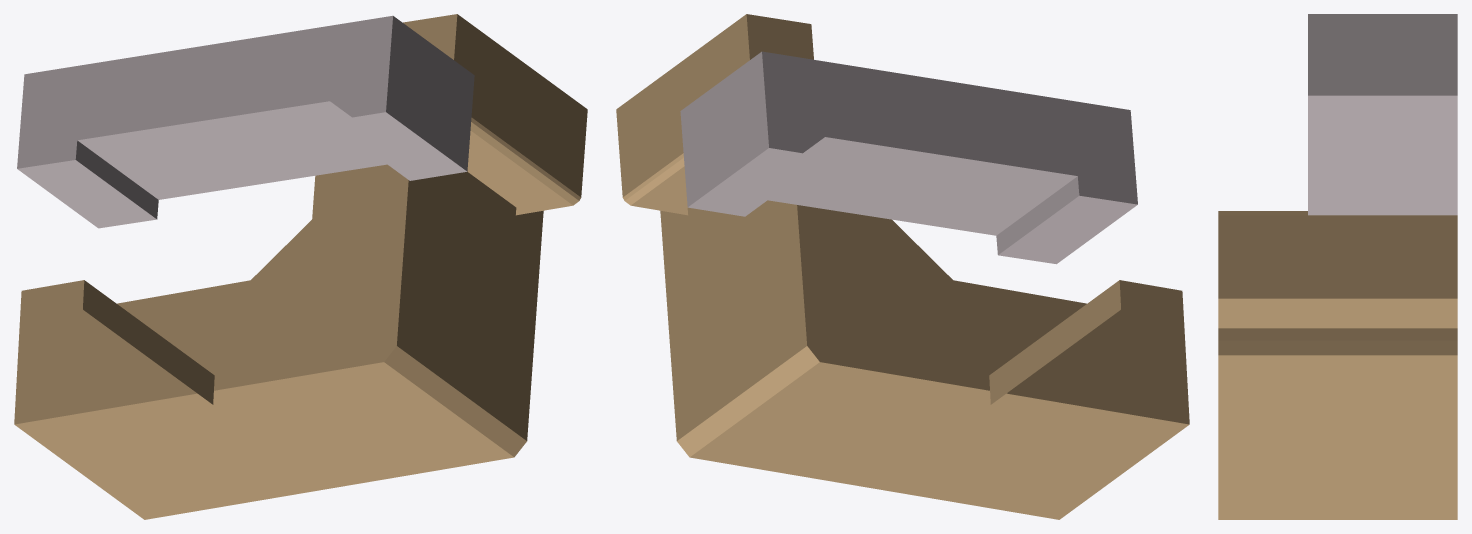
3 renders of one model, left to right at view 1: azimuth 30°, elevation 25°; view 2: azimuth 150°, elevation 25°; view 3: azimuth 270°, elevation 25°, orthographic. The views are drawn at different scales.
Visible parts, largest first — view 1: 0_3_2_0_2_0_1_1_2; view 2: 0_3_2_0_2_0_1_1_2; view 3: 0_3_2_0_2_0_1_1_2.
Boxes of the visible parts, x1,y1,x2,y2 form: 0_3_2_0_2_0_1_1_2: (14,14,587,519); 0_3_2_0_2_0_1_1_2: (616,14,1189,519); 0_3_2_0_2_0_1_1_2: (1218,14,1457,519).
Size of the model in its own units: 47.11 by 38.14 by 24.
